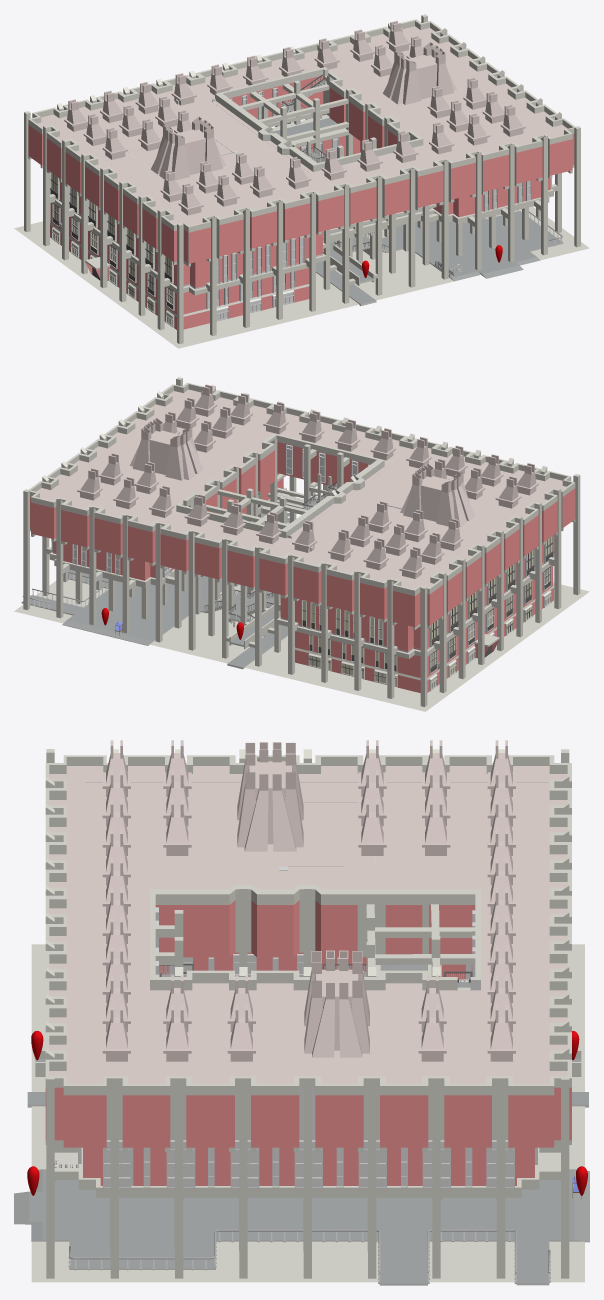
File: Color_Mesh.glb
3 renders of one model, top to bottom at view 1: azimuth 30°, elevation 25°; view 2: azimuth 150°, elevation 25°; view 3: azimuth 270°, elevation 25°, orthographic. The views are drawn at different scales.
Visible parts, largest first — view 1: Cube041; view 2: Cube041; view 3: Cube041.
Boxes of the visible parts, x1,y1,x2,y2 form: Cube041: [14, 14, 589, 348]; Cube041: [14, 377, 589, 711]; Cube041: [14, 740, 589, 1285].
Bounding box in the file's own units: 520 × 183 × 371.
